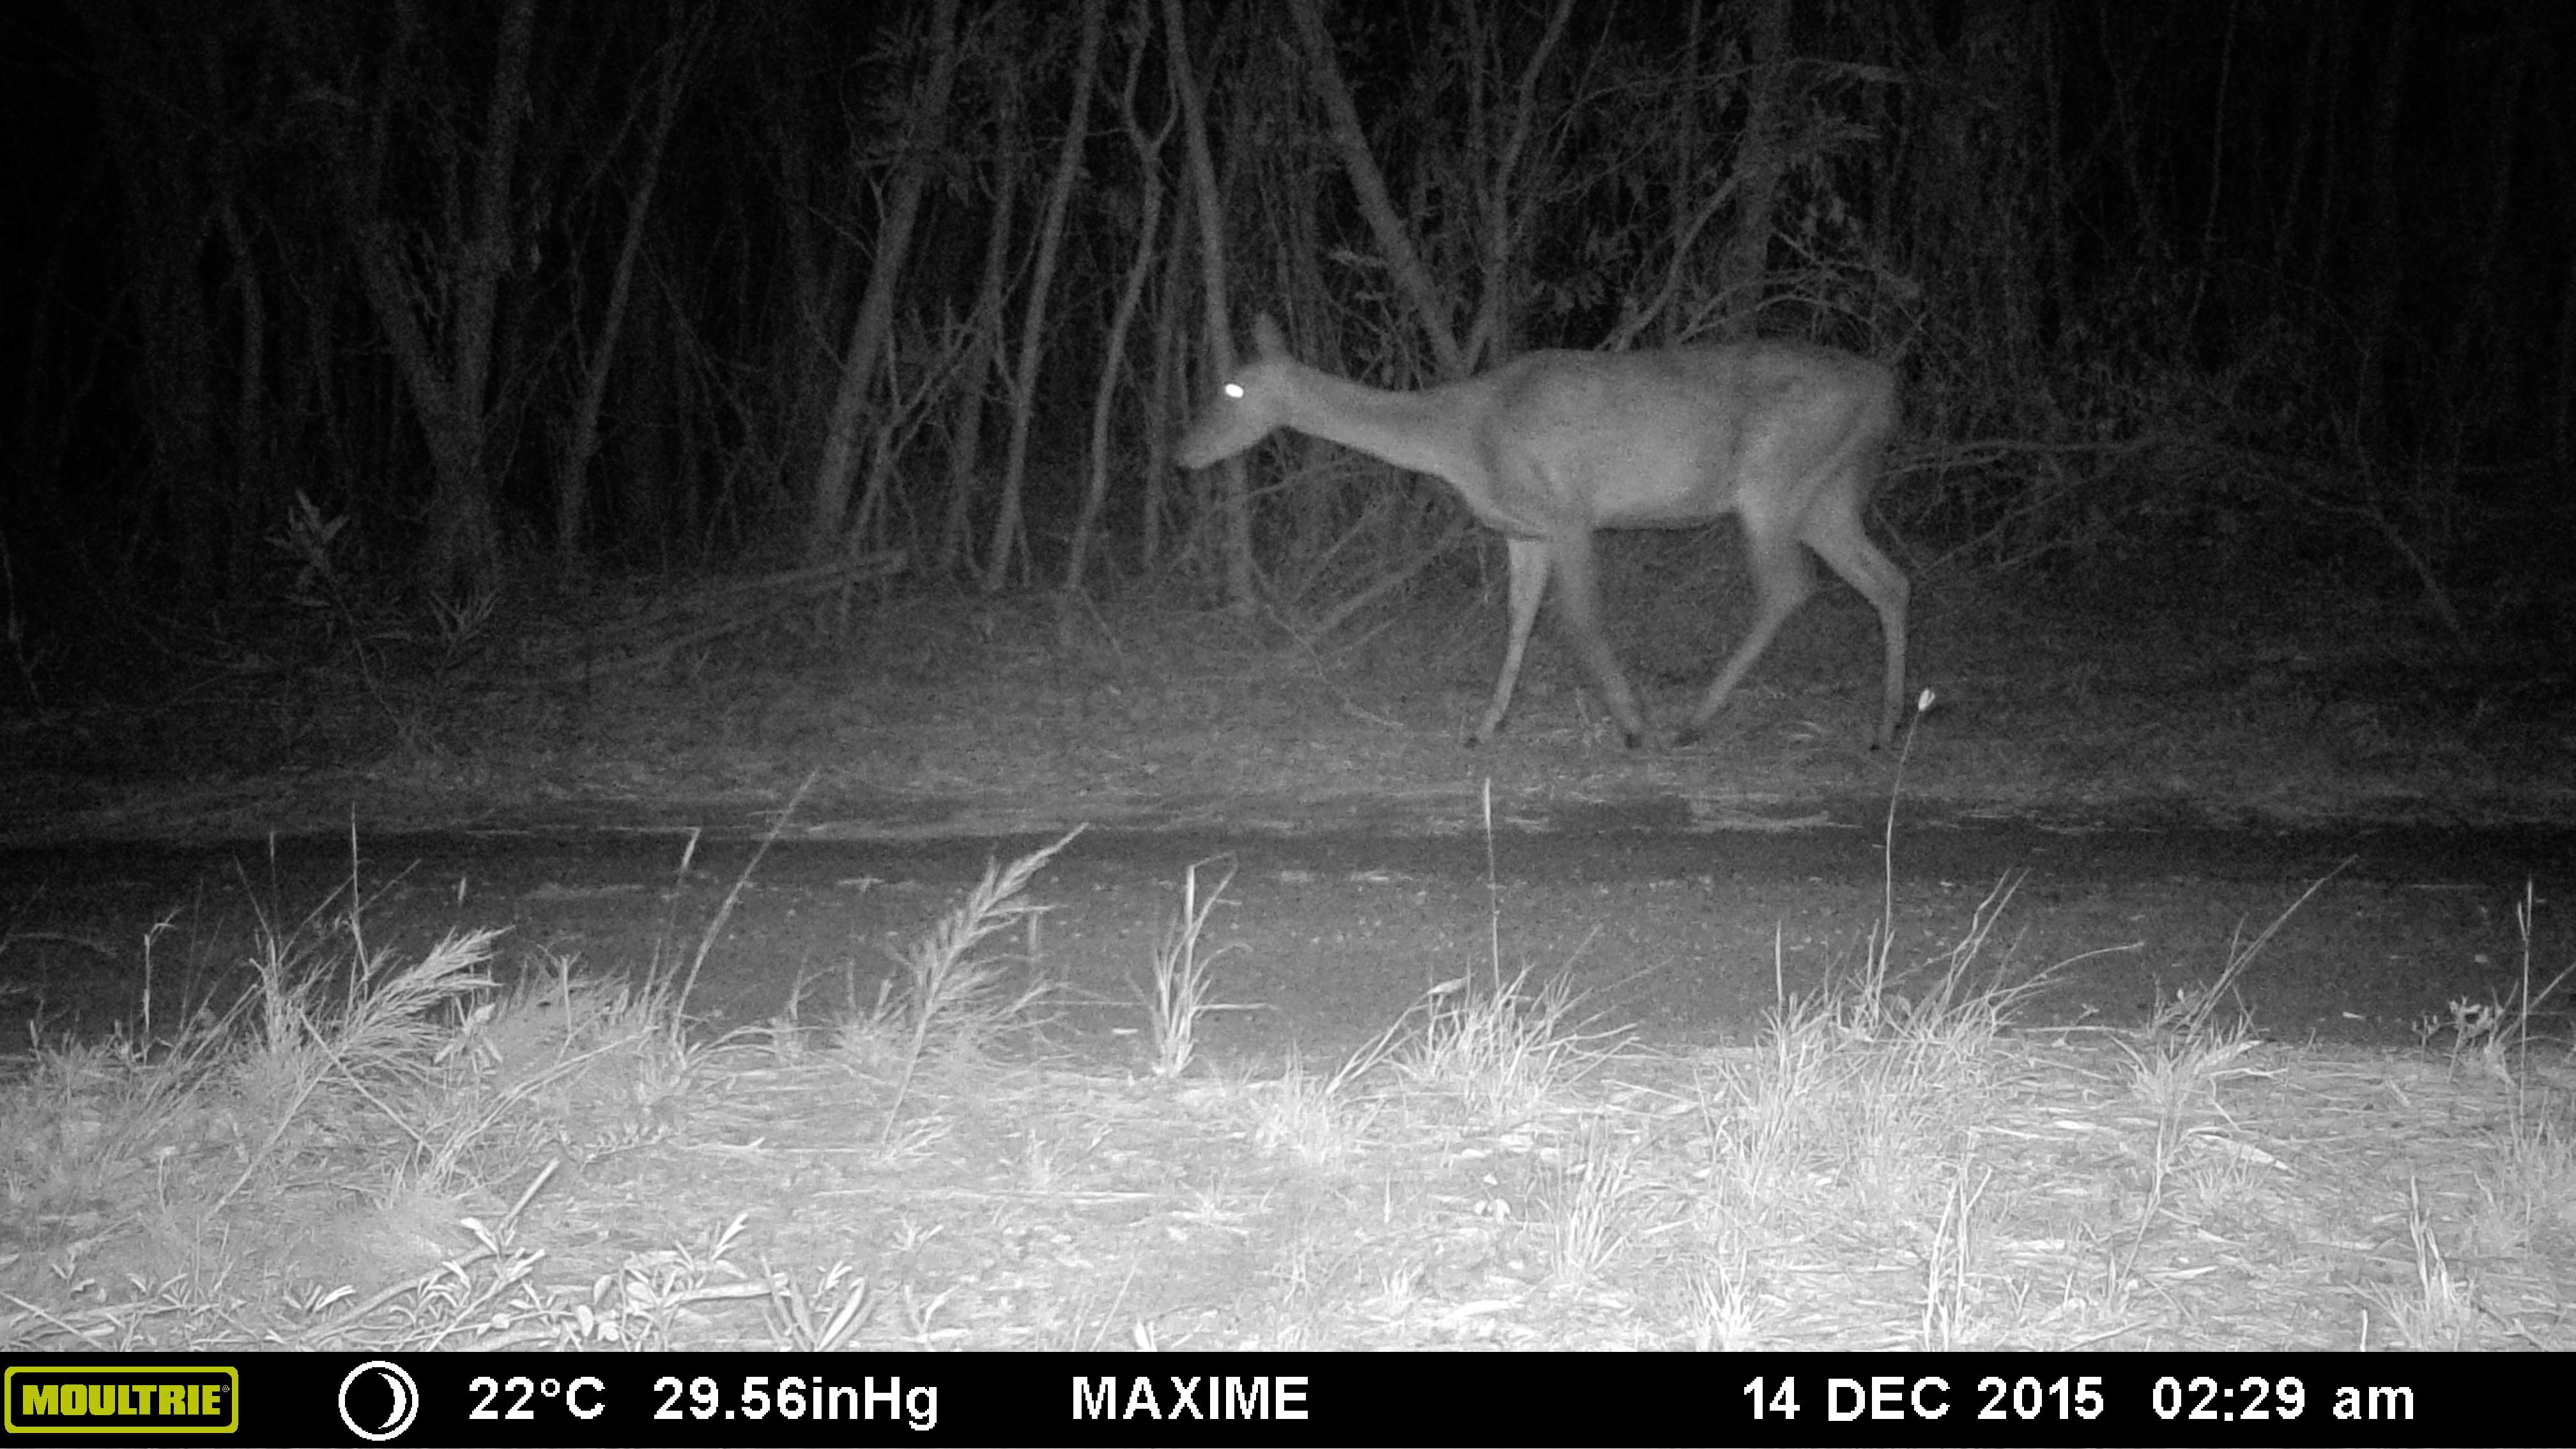Deer: (1166, 311, 1934, 770)
